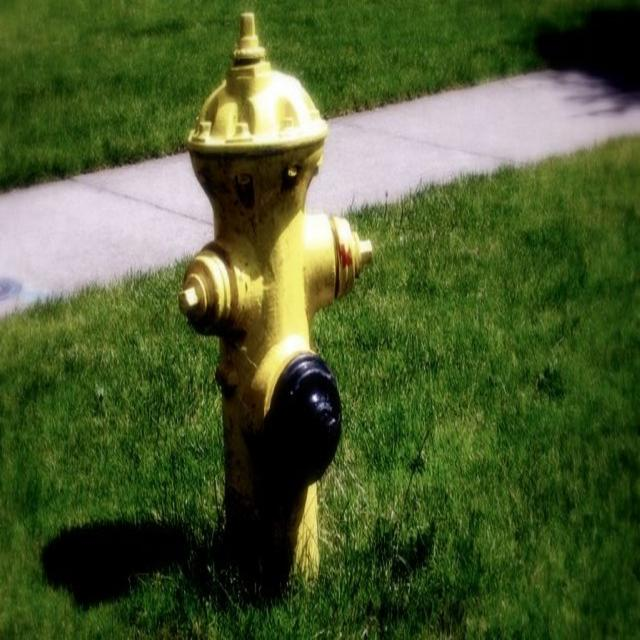fire_hydrant: (178, 10, 373, 591)
